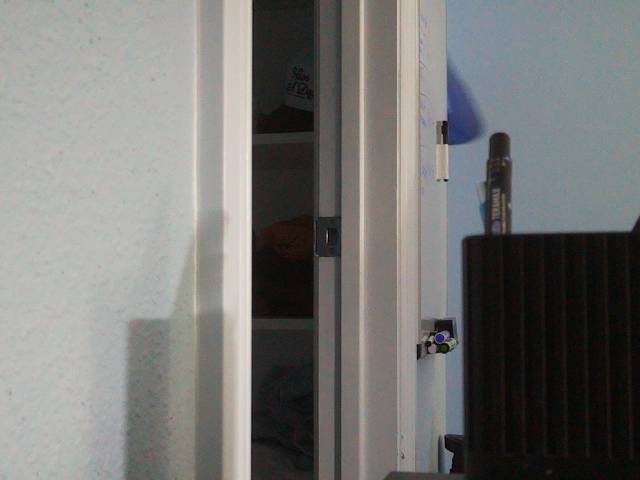crater: (197, 83, 417, 303), (164, 62, 366, 264), (164, 187, 365, 388), (222, 287, 415, 480), (188, 278, 365, 455), (396, 312, 563, 480), (194, 153, 359, 318), (222, 0, 367, 144), (195, 341, 334, 480), (261, 256, 365, 360)
